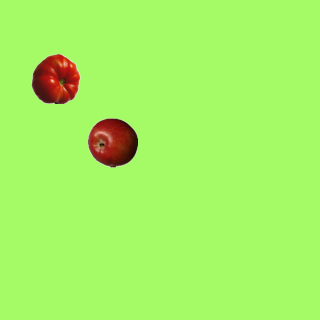Apple Braeburn: (87, 117, 137, 167)
Tomato 3: (30, 53, 80, 103)
